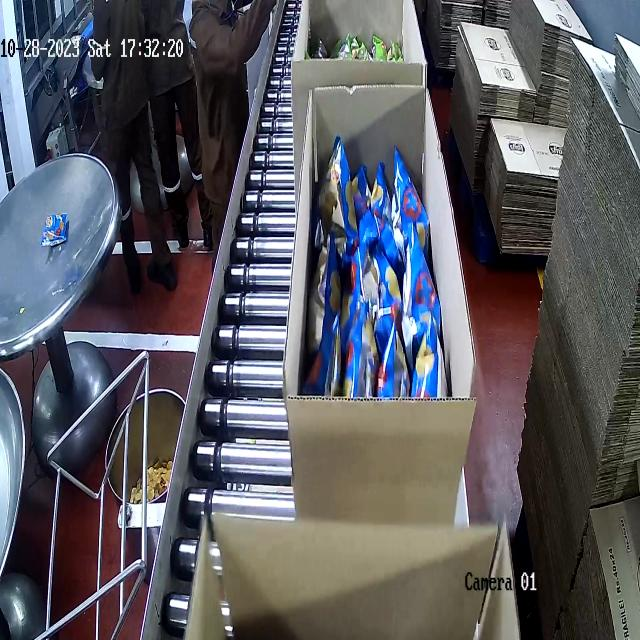PAPRIKA: (312, 123, 444, 400)
